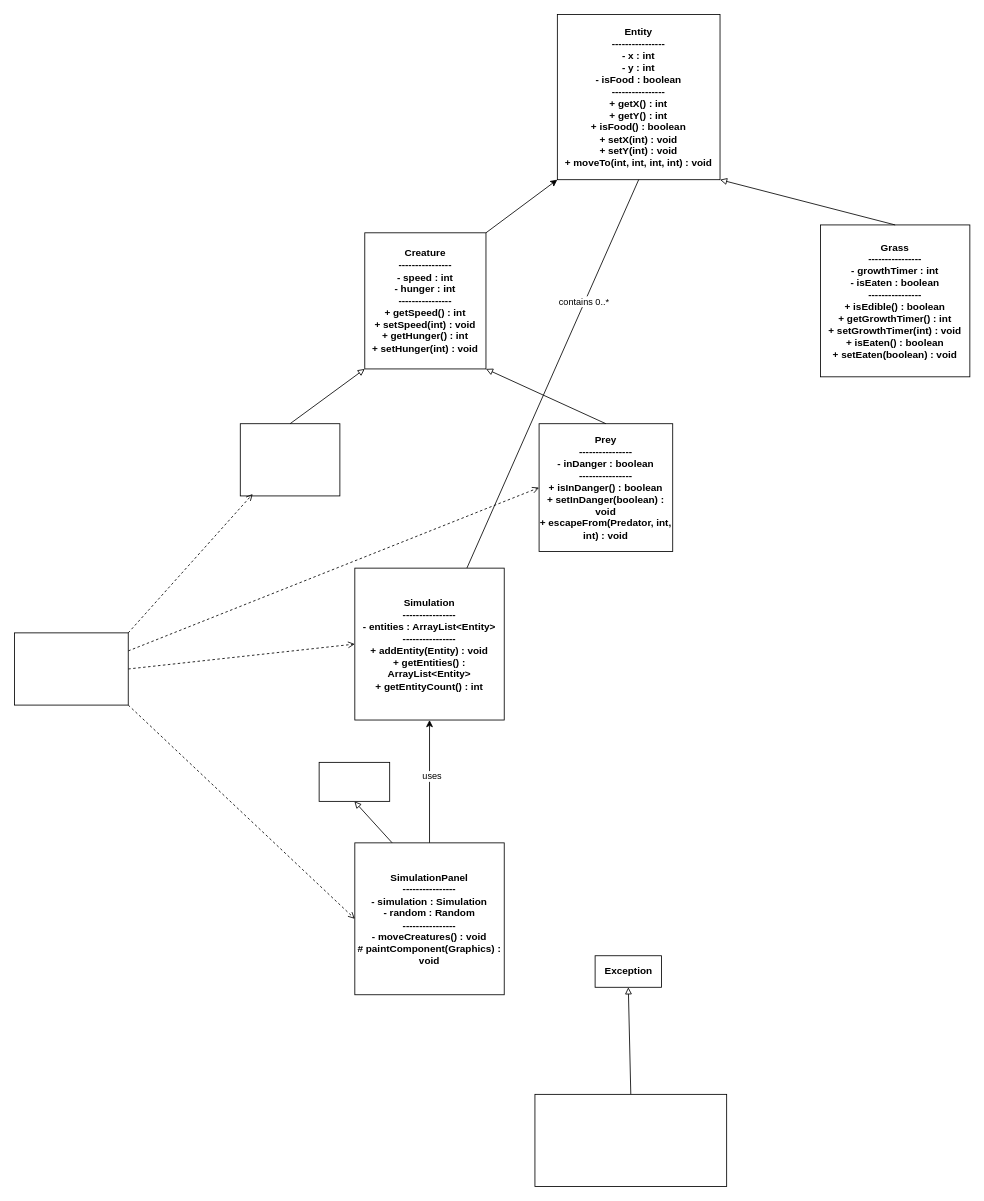
The diagram is 984 pixels wide and 1201 high, and some of its shapes have lost their labels. The shapes that lost their labels are listed below. From the top down, each one's centre as x and y in pixels, then its label:
At [289,459]: "Predator ---------------- + chase(Prey, int, int) : void".
At [71,668]: "App ---------------- + main(String[]) : void".
At [354,781]: "JPanel".
At [630,1140]: "InvalidPositionException ---------------- + InvalidPositionException(String)".
